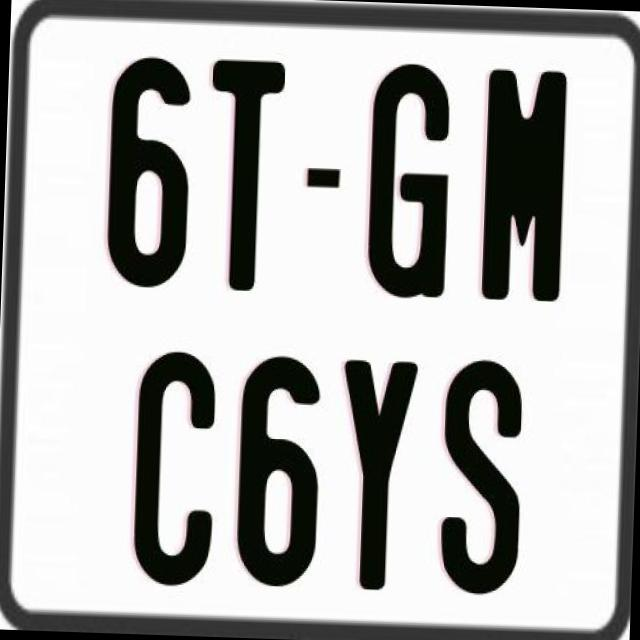6: (232, 349, 326, 586), (104, 55, 194, 298)
C: (129, 349, 215, 590)
G: (362, 59, 450, 299)
M: (477, 66, 565, 300)
S: (436, 357, 528, 602)
T: (201, 54, 285, 288)
Y: (336, 359, 418, 600)
